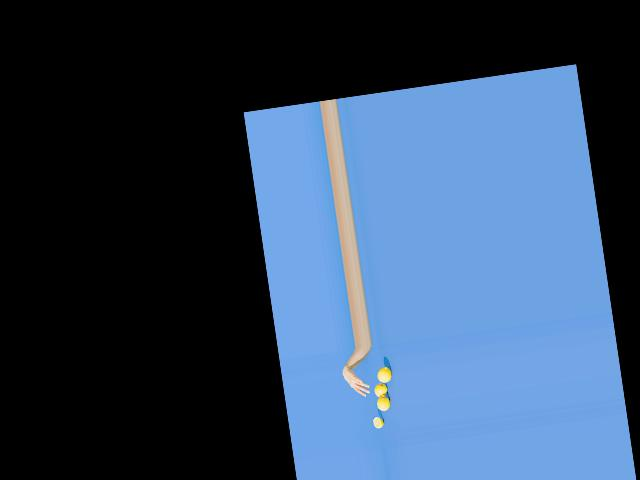lemon: (375, 394, 389, 413)
